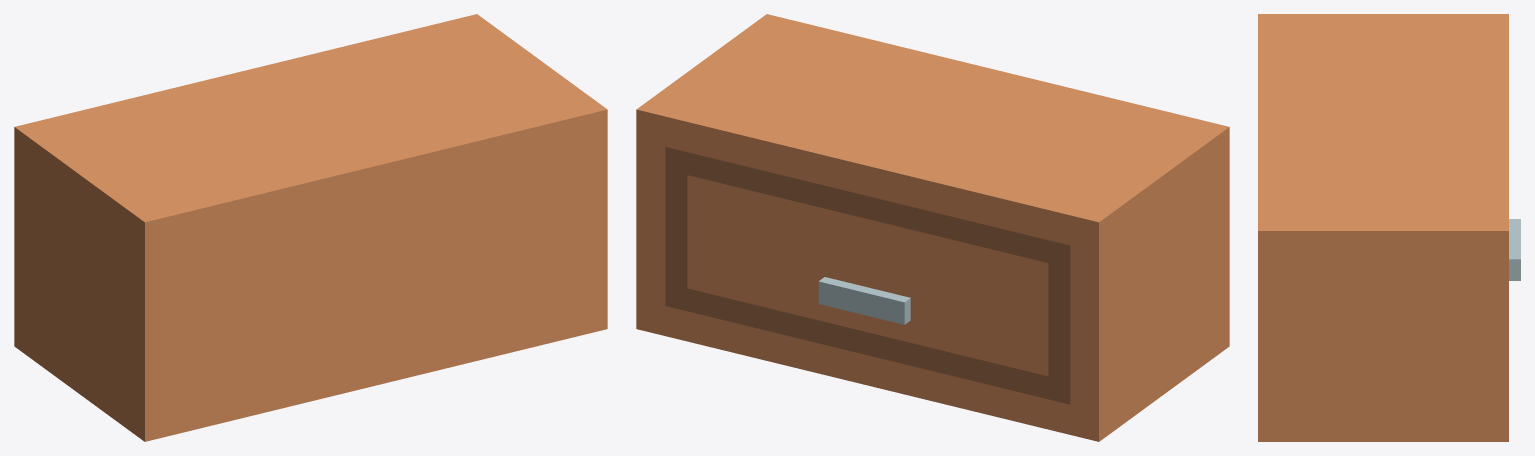
Rendered from kitchen_cabinet_upper_low.obj.
The picture shows the model from 3 angles, left to right: view 1: azimuth 30°, elevation 25°; view 2: azimuth 150°, elevation 25°; view 3: azimuth 270°, elevation 25°; orthographic projection. The views are drawn at different scales.
Visible parts, largest first — view 1: kitchenCabinetUpperLow:door1; view 2: kitchenCabinetUpperLow:door1; view 3: kitchenCabinetUpperLow:door1.
Part boxes in pixels (x1,y1,x2,y2): kitchenCabinetUpperLow:door1: (14, 14, 607, 441); kitchenCabinetUpperLow:door1: (636, 14, 1229, 441); kitchenCabinetUpperLow:door1: (1258, 14, 1520, 441).
Bounding box in the file's own units: 0.43 × 0.195 × 0.22.
